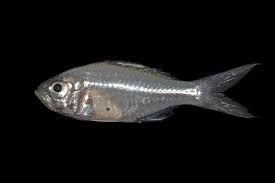Glass Perchlet: (36, 60, 259, 125)
